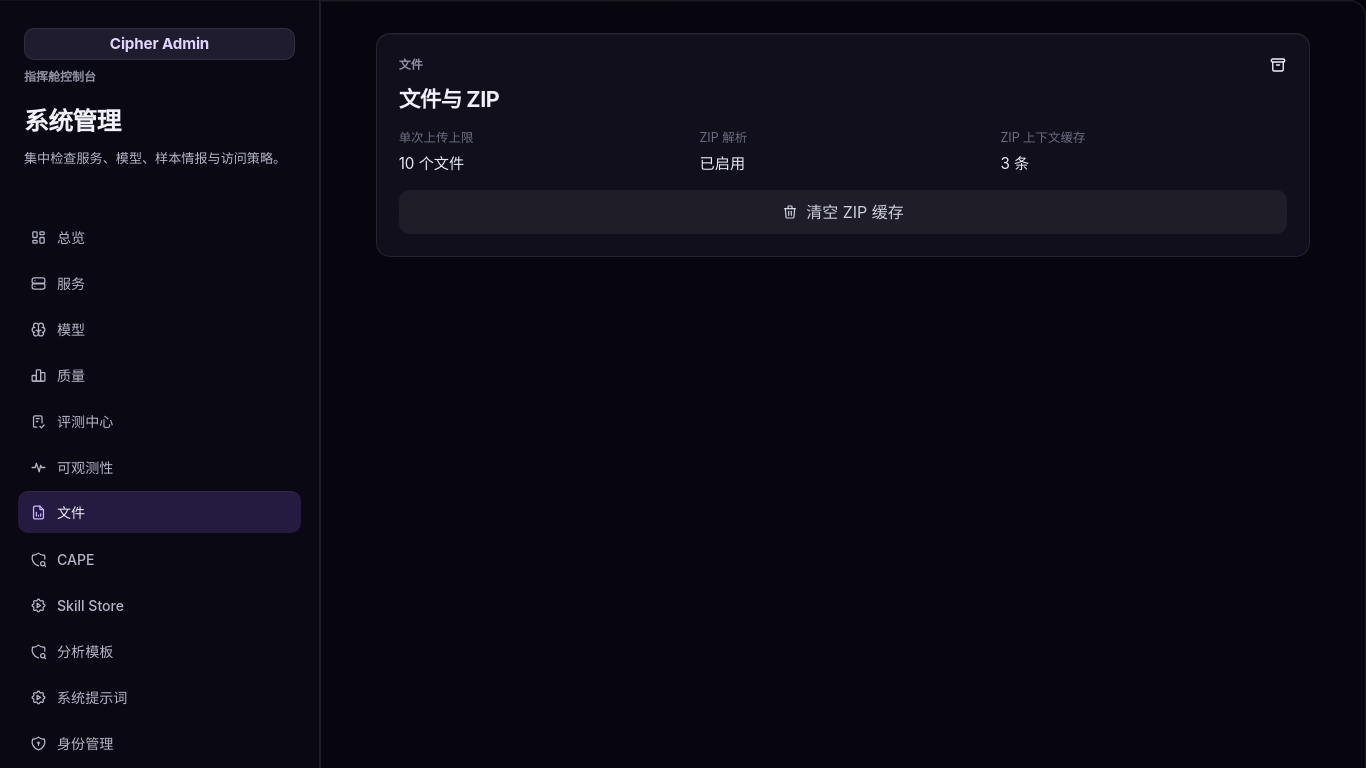
Test: AdminPage › clears zip cache and refreshes the files section
Click the button "清空 ZIP 缓存": (843, 212) [399,190,1287,234]
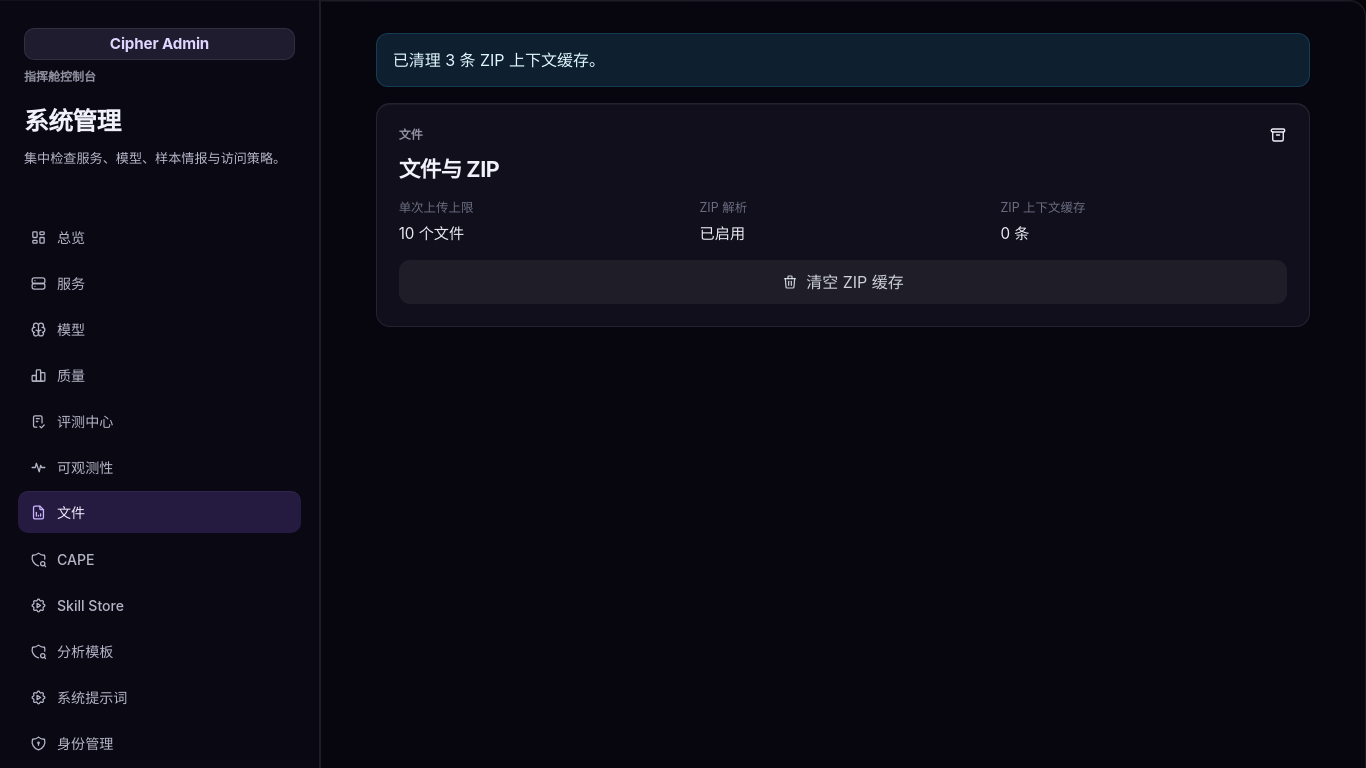
Expected: the message shows "3", [393,50,605,70]
